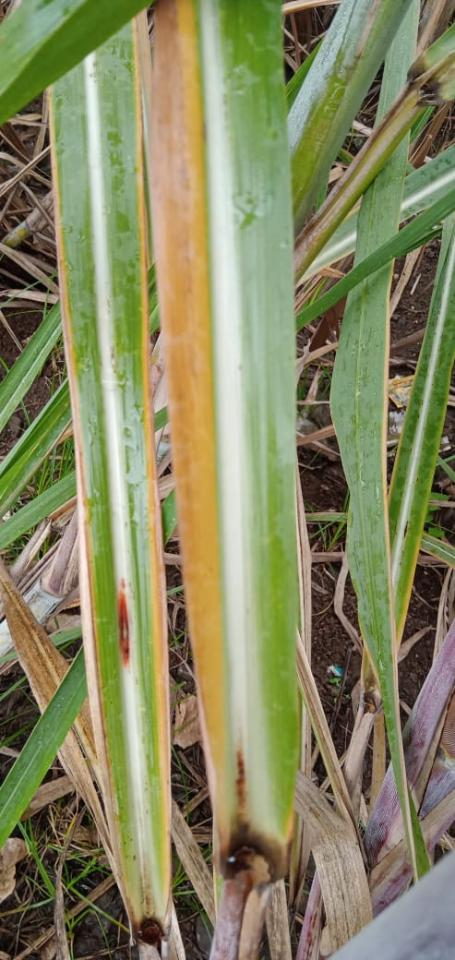RedRot: (117, 592, 130, 669), (235, 748, 246, 809), (120, 577, 127, 590)
Yellow: (153, 0, 231, 798), (135, 20, 169, 906), (47, 88, 88, 572)
